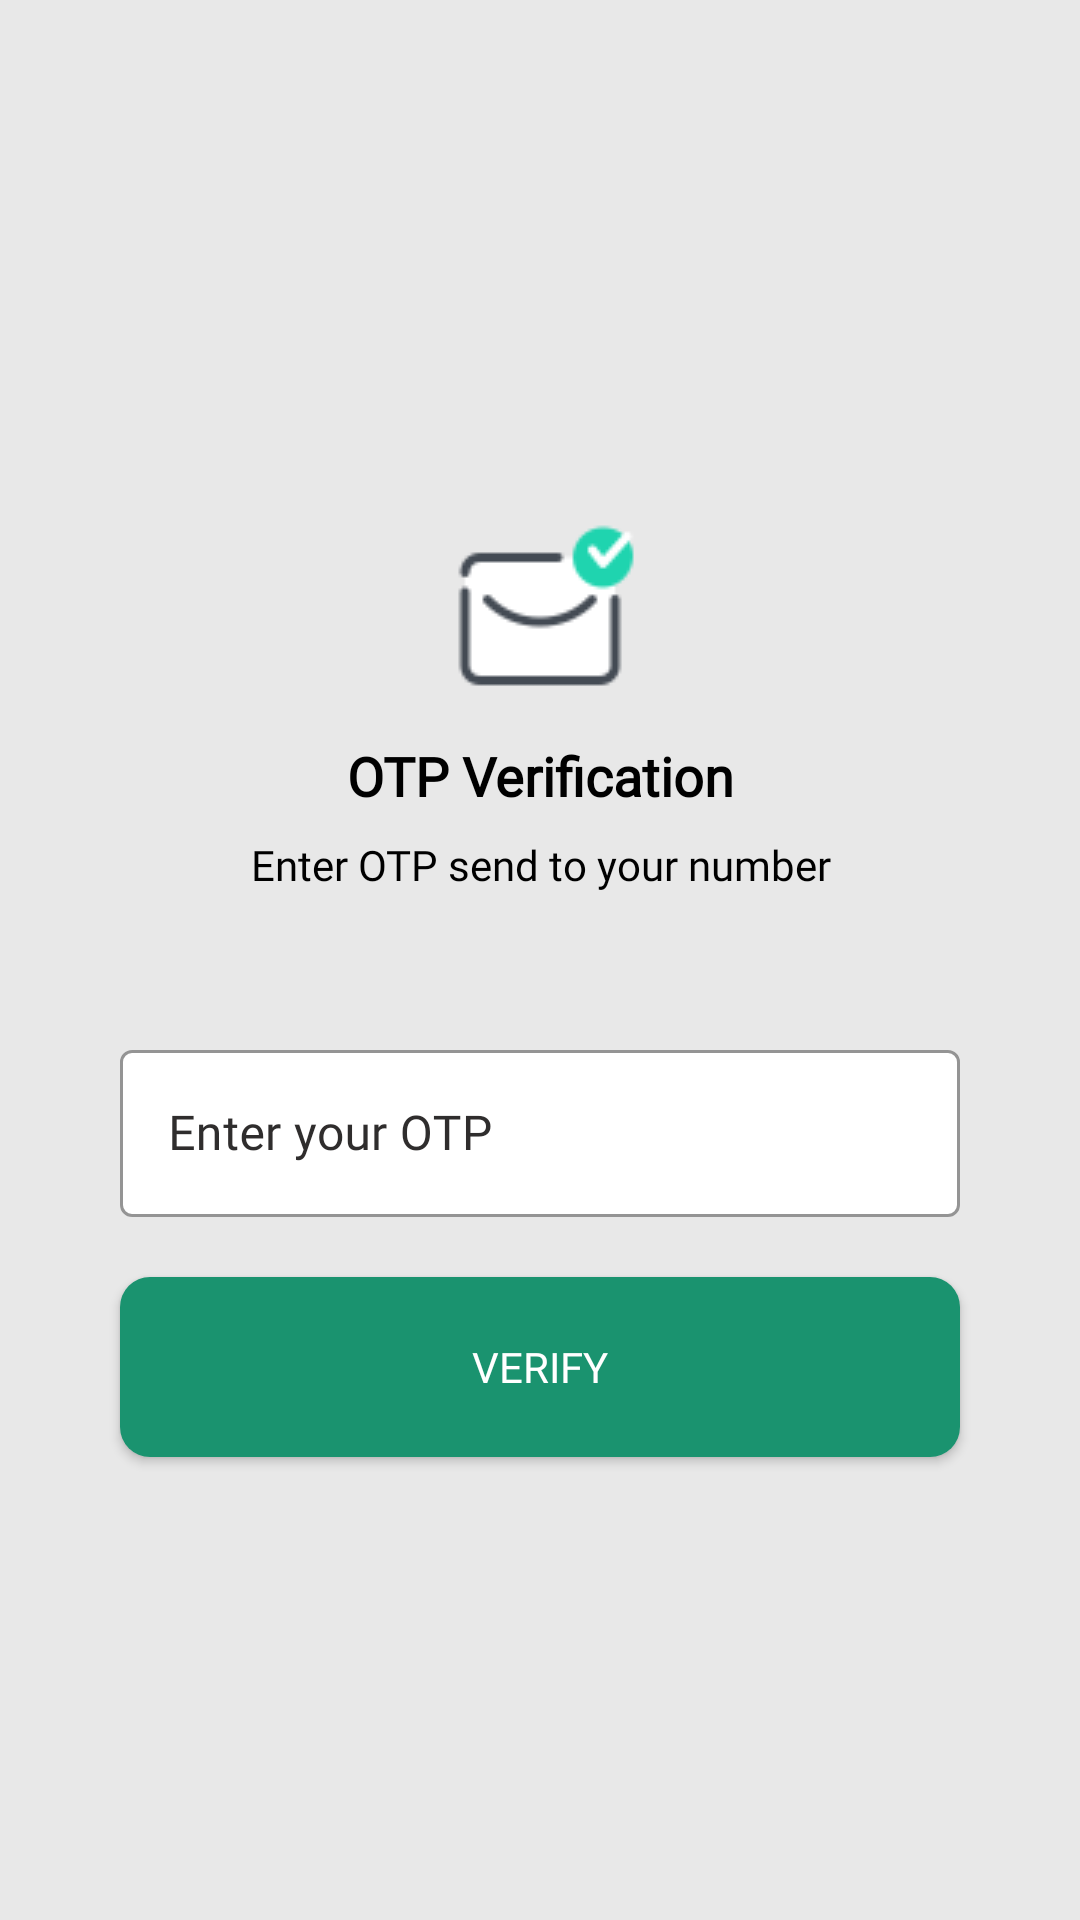

Screen size 1080px×1920px. Icon name, then its center in pixels as (x,y):
received: (546,605)
